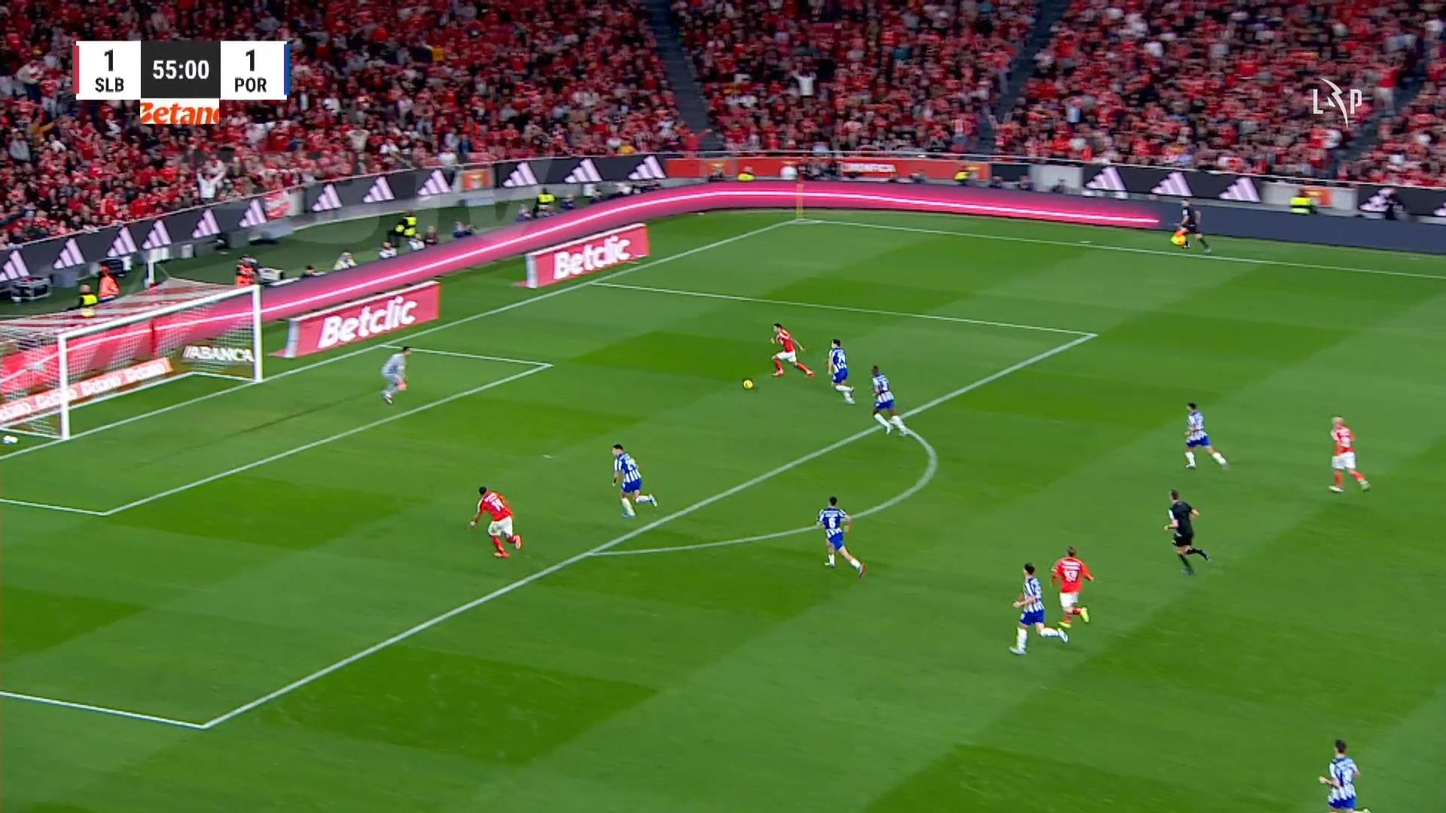ball: (840, 519, 851, 531), (742, 378, 753, 389)
goalkeeper: (380, 345, 411, 404)
player: (1008, 562, 1067, 655), (1049, 544, 1094, 642), (468, 484, 523, 558), (816, 495, 865, 577), (1317, 738, 1368, 812), (610, 443, 657, 518), (1327, 414, 1371, 492), (1182, 400, 1228, 470), (869, 364, 909, 436), (769, 321, 815, 378), (825, 337, 855, 404)
referee: (1163, 488, 1210, 575), (1170, 197, 1212, 254)
